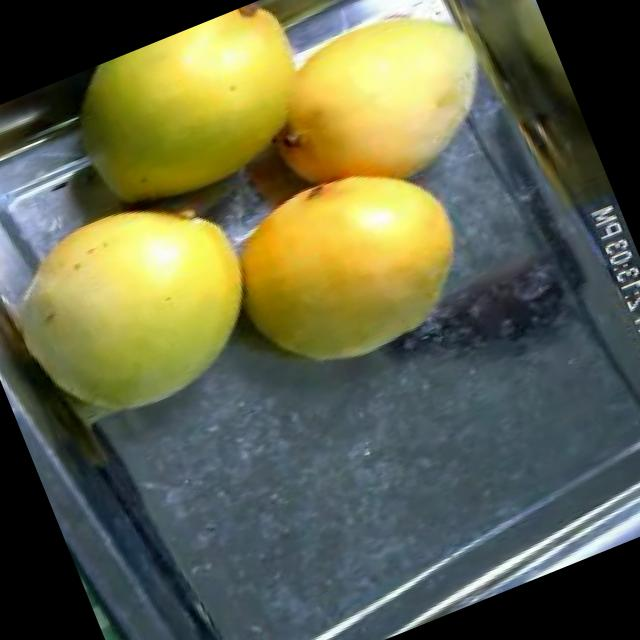fruit: (181, 110, 508, 413), (0, 146, 304, 470), (41, 0, 355, 262), (230, 0, 529, 240)
